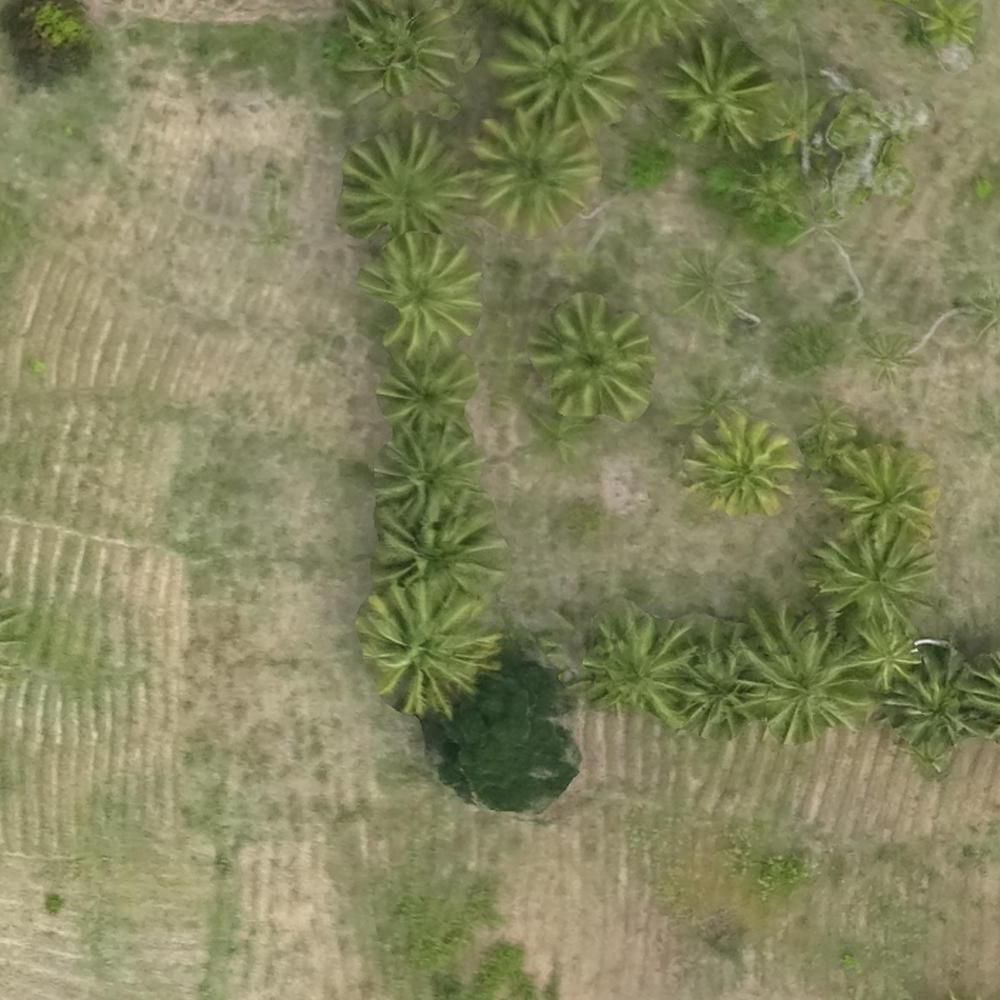Palm: (494, 9, 629, 130), (738, 605, 866, 732), (361, 589, 490, 704), (533, 296, 652, 418), (362, 233, 490, 343), (478, 112, 596, 224), (342, 133, 466, 239), (374, 506, 504, 599), (814, 527, 930, 627), (662, 36, 768, 144), (345, 2, 455, 105), (582, 612, 688, 718), (683, 413, 787, 512), (375, 427, 482, 519), (675, 626, 765, 735), (830, 443, 934, 536), (892, 649, 979, 746), (372, 347, 472, 430), (853, 619, 928, 686)
